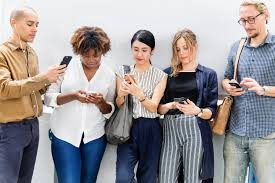person: (220, 1, 274, 181), (49, 23, 110, 181), (161, 26, 215, 181), (114, 26, 160, 183), (1, 1, 38, 182)
